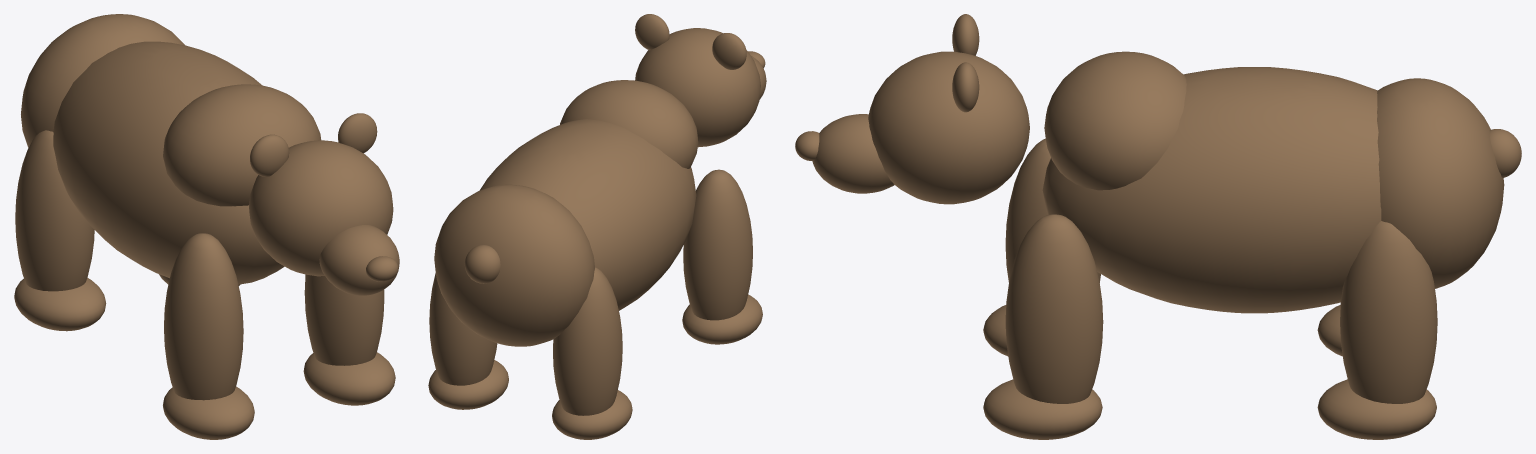
Rendered from Bear_hd.fbx.
The picture shows the model from 3 angles, left to right: view 1: azimuth 30°, elevation 25°; view 2: azimuth 150°, elevation 25°; view 3: azimuth 270°, elevation 25°; orthographic projection. The views are drawn at different scales.
Parts seen in each view (by area): view 1: Bear_hd; view 2: Bear_hd; view 3: Bear_hd.
Boxes of the visible parts, x1,y1,x2,y2 form: Bear_hd: [14, 14, 399, 439]; Bear_hd: [428, 14, 766, 439]; Bear_hd: [795, 14, 1521, 439].
Size of the model in its own units: 98.2 by 137 by 254.
